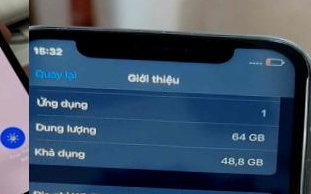scratch: (285, 78, 311, 194)
